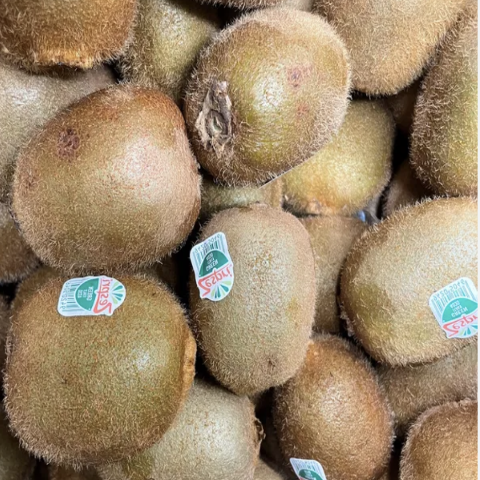kiwi: (0, 251, 212, 467), (8, 82, 220, 293), (149, 6, 379, 180), (183, 183, 337, 400), (339, 190, 480, 388)
